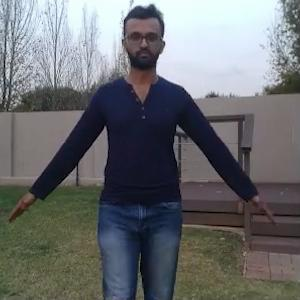land: (8, 8, 273, 298)
